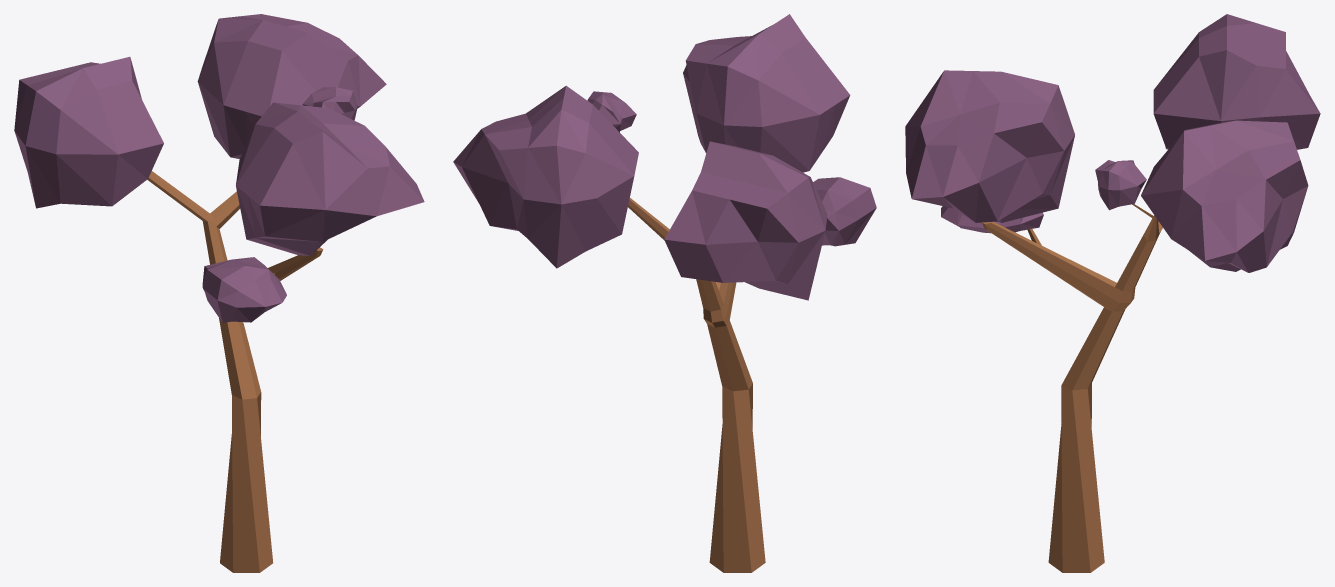
File: Tree 2.fbx
3 renders of one model, left to right at view 1: azimuth 30°, elevation 25°; view 2: azimuth 150°, elevation 25°; view 3: azimuth 270°, elevation 25°, orthographic. The views are drawn at different scales.
Parts seen in each view (by area): view 1: Tree 2; view 2: Tree 2; view 3: Tree 2.
Boxes of the visible parts, x1,y1,x2,y2 form: Tree 2: (14,14,424,572); Tree 2: (453,14,876,572); Tree 2: (905,14,1320,572).
Bounding box in the file's own units: 2.4 × 2.32 × 3.08.
